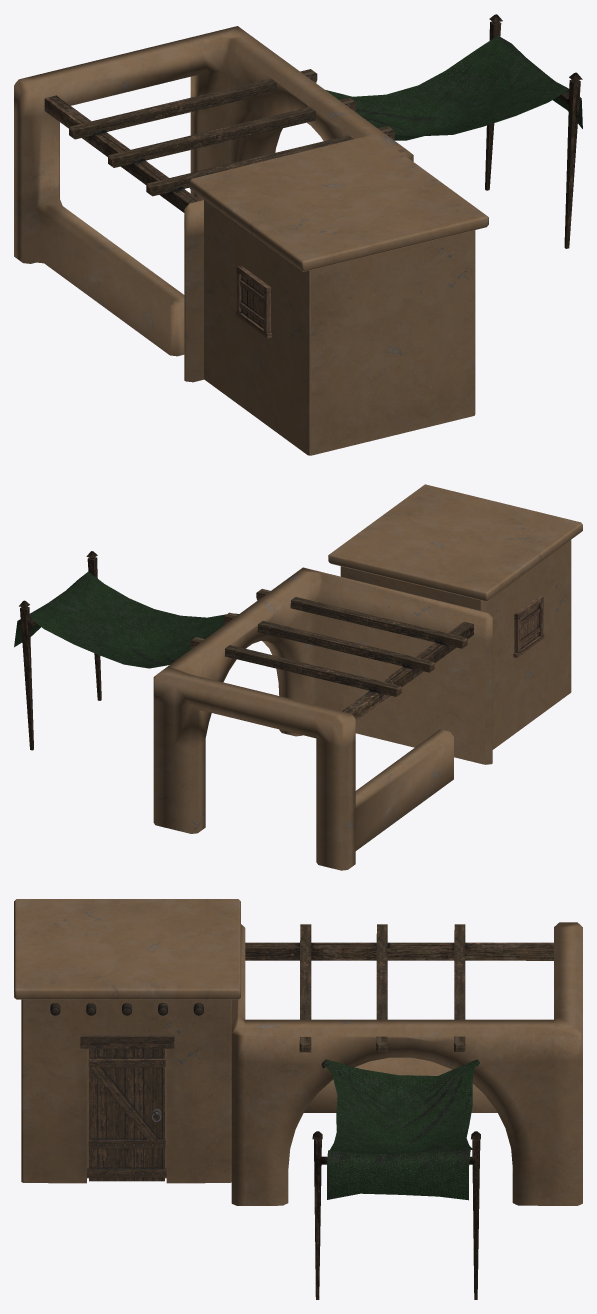
3 views of the same model, one above another, from view 1: azimuth 30°, elevation 25°; view 2: azimuth 150°, elevation 25°; view 3: azimuth 270°, elevation 25° (orthographic). The views are drawn at different scales.
Visible parts, largest first — view 1: house_1_walls, house_2_arch2, house_1_roof, pPlane1, house_2_logs, pCube3, house_1_window; view 2: house_2_arch2, house_1_roof, house_1_walls, pPlane1, house_2_logs, pCube3, house_1_window; view 3: house_2_arch2, house_1_walls, house_1_roof, pPlane1, house_1_door, house_2_logs, pCube3, house_1_logs.
Part boxes in pixels (<box>): house_1_walls: <box>204,199,475,455</box>; house_2_arch2: <box>14,26,413,382</box>; house_1_roof: <box>189,134,488,271</box>; pPlane1: <box>325,35,582,140</box>; house_2_logs: <box>44,69,394,212</box>; pCube3: <box>485,14,582,248</box>; house_1_window: <box>235,265,271,338</box>; house_2_arch2: <box>153,567,492,870</box>; house_1_roof: <box>328,484,582,601</box>; house_1_walls: <box>340,540,571,749</box>; pPlane1: <box>14,571,238,668</box>; house_2_logs: <box>190,589,473,720</box>; pCube3: <box>19,551,101,750</box>; house_1_window: <box>513,596,544,657</box>; house_2_arch2: <box>231,922,582,1205</box>; house_1_walls: <box>21,999,232,1183</box>; house_1_roof: <box>14,899,240,999</box>; pPlane1: <box>321,1059,479,1200</box>; house_1_door: <box>80,1035,174,1181</box>; house_2_logs: <box>245,924,553,1052</box>; pCube3: <box>312,1131,480,1299</box>; house_1_logs: <box>50,1003,203,1015</box>.
Size of the model in its own units: 4.31 by 1.84 by 4.75.
Materials: 11 (11 with a texture image).
